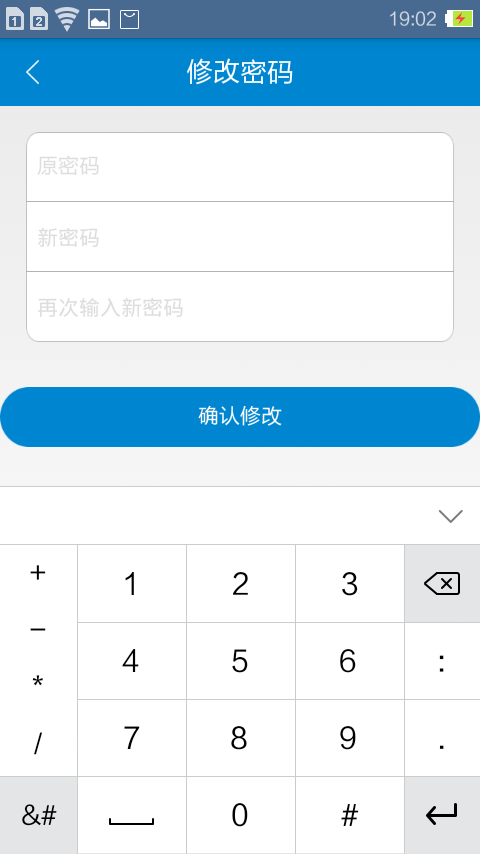textview: (20, 123, 455, 349)
